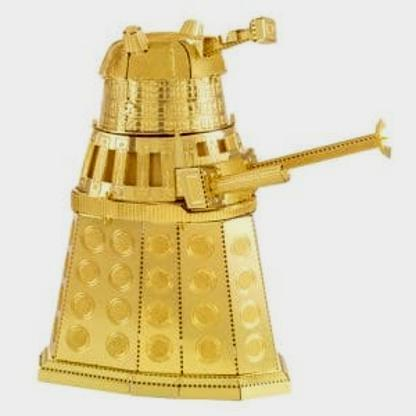dalek: (16, 1, 411, 415)
